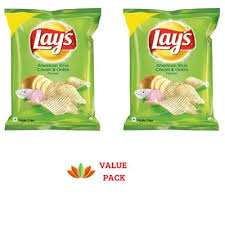lays-small: (4, 7, 100, 128), (125, 6, 218, 130)
